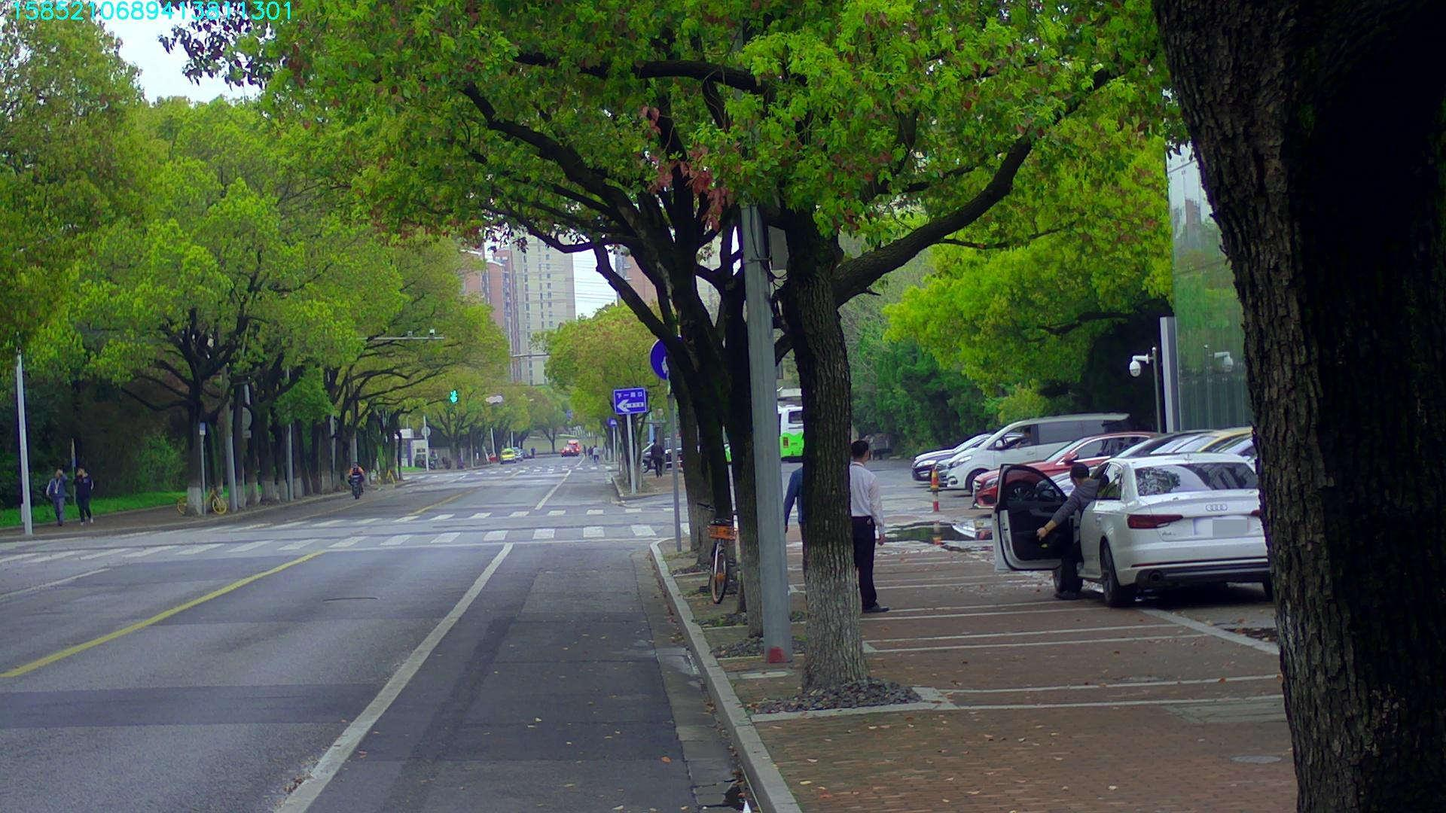green: (450, 388, 458, 400)
